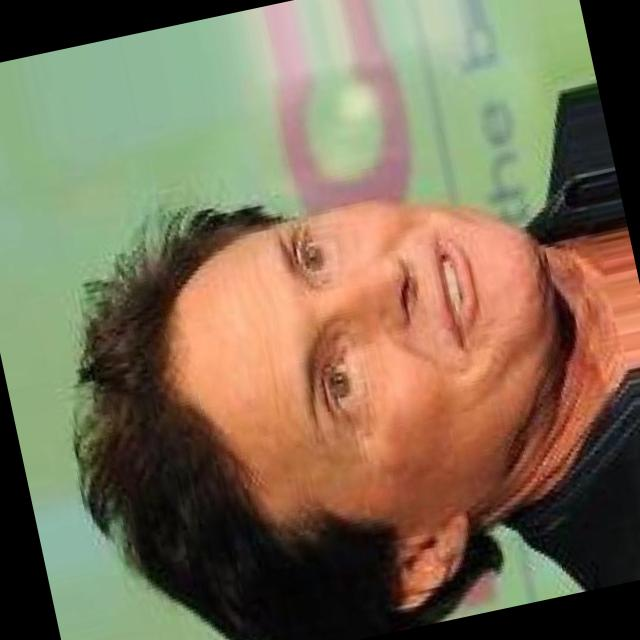bareface: (140, 120, 582, 594)
